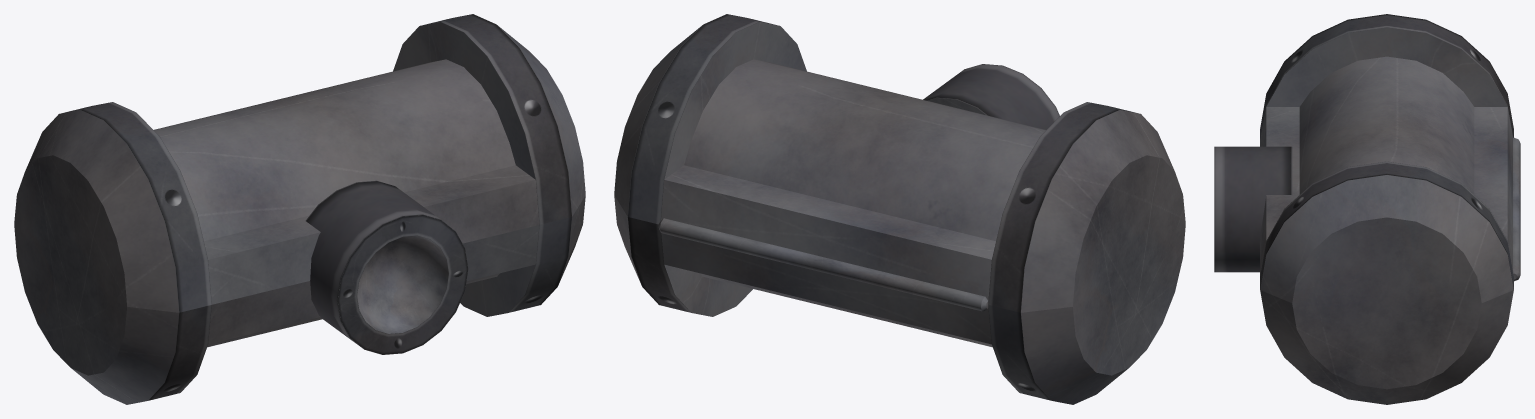
File: Hub_Chest.fbx
3 views of the same model, side by side, from view 1: azimuth 30°, elevation 25°; view 2: azimuth 150°, elevation 25°; view 3: azimuth 270°, elevation 25° (orthographic). The views are drawn at different scales.
Parts seen in each view (by area): view 1: Chest01; view 2: Chest01; view 3: Chest01.
Part boxes in pixels (left/top/right/bottom): Chest01: left=14, top=14, right=585, bottom=404; Chest01: left=614, top=14, right=1185, bottom=404; Chest01: left=1214, top=14, right=1520, bottom=404.
Size of the model in its own units: 14 by 8 by 9.66.
